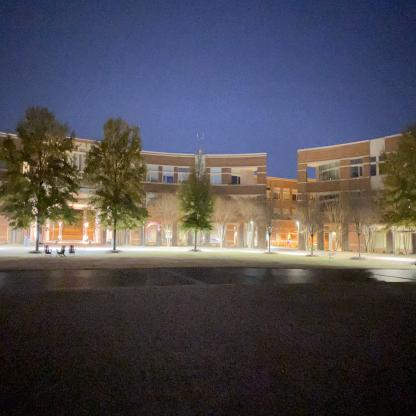eb2: (1, 131, 276, 261)
